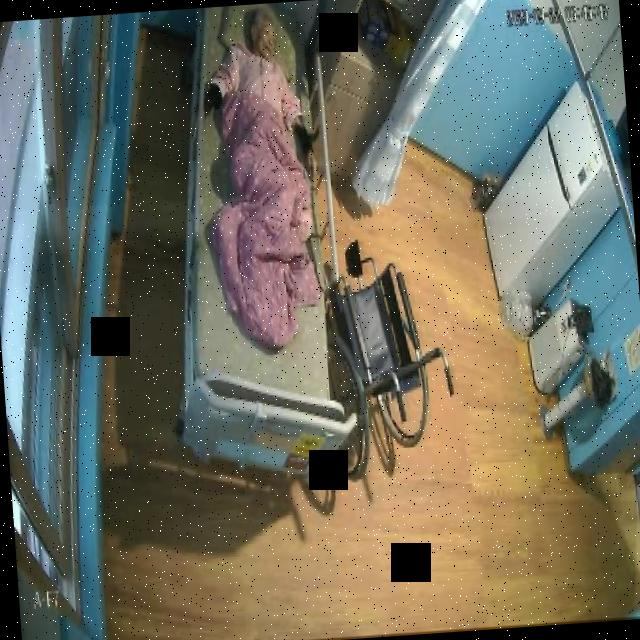bed: (156, 2, 350, 484)
lie: (196, 3, 328, 355)
patient: (197, 6, 313, 162)
